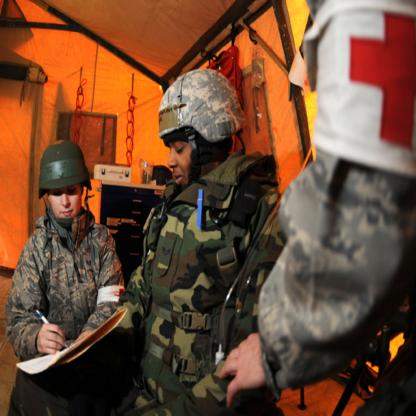Helmet: (158, 73, 237, 193), (37, 135, 87, 230)
